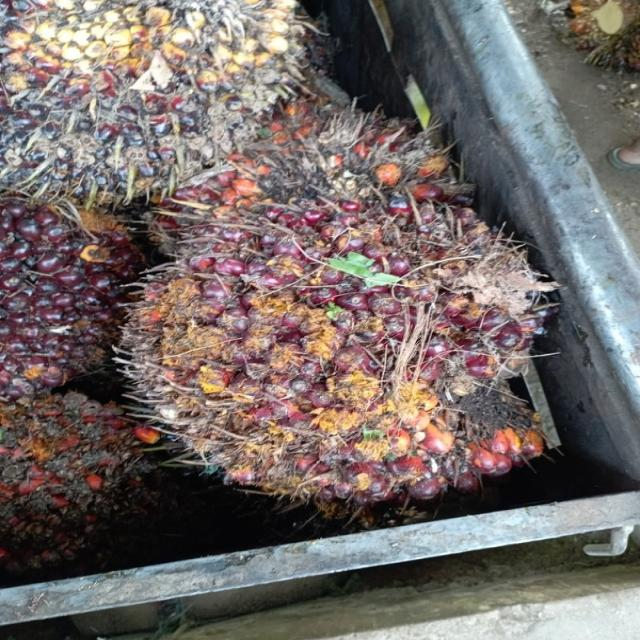fraksi 1: (79, 129, 631, 562)
